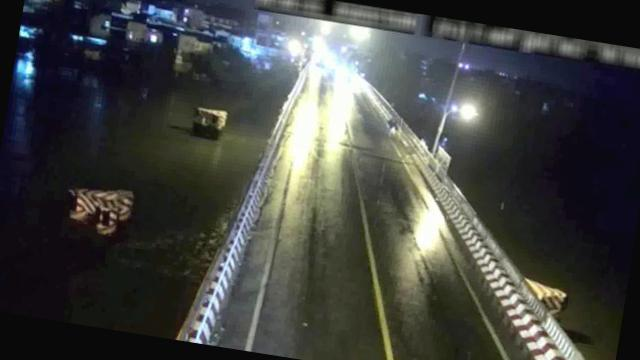Bike: (384, 116, 402, 140)
